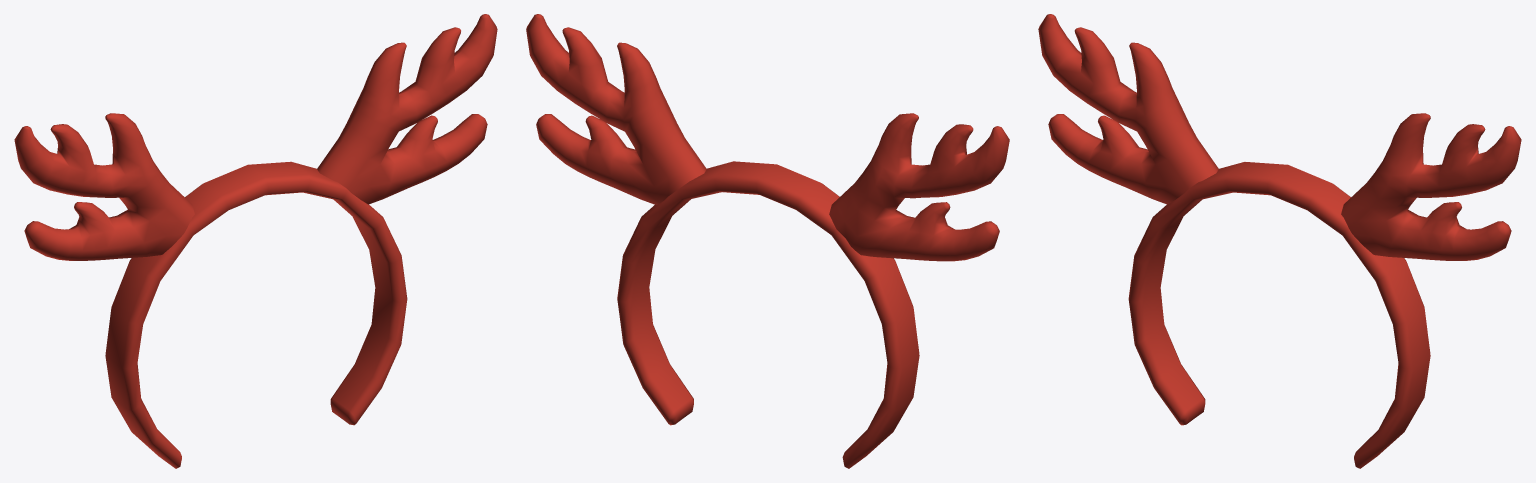
File: Sung_tuan_loc.fbx
3 renders of one model, left to right at view 1: azimuth 30°, elevation 25°; view 2: azimuth 150°, elevation 25°; view 3: azimuth 330°, elevation 25°, orthographic.
Visible parts, largest first — view 1: Sung_tuan_loc; view 2: Sung_tuan_loc; view 3: Sung_tuan_loc.
Part boxes in pixels (x1,y1,x2,y2): Sung_tuan_loc: (14,14,497,468); Sung_tuan_loc: (526,14,1009,468); Sung_tuan_loc: (1038,14,1521,468).
Size of the model in its own units: 211 by 155 by 19.2.
